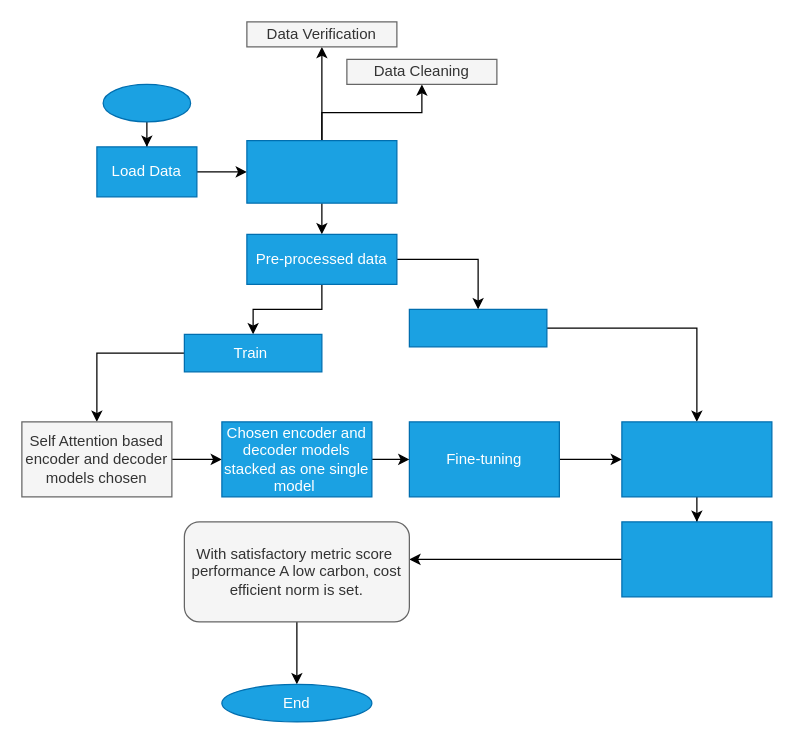
This 794x744 diagram has some shape labels left out. The shapes that lost their labels are listed below. From the top down, each one's centre as x and y in pixels, then its label:
At point (146, 102): "Start".
At point (321, 171): "Data Preprocessing".
At point (477, 327): "Test Set".
At point (696, 459): "Trained Model (Encoder-Decoder based Transformer)".
At point (696, 559): "Model Evaluation on BLEU and CodeBLEU".
